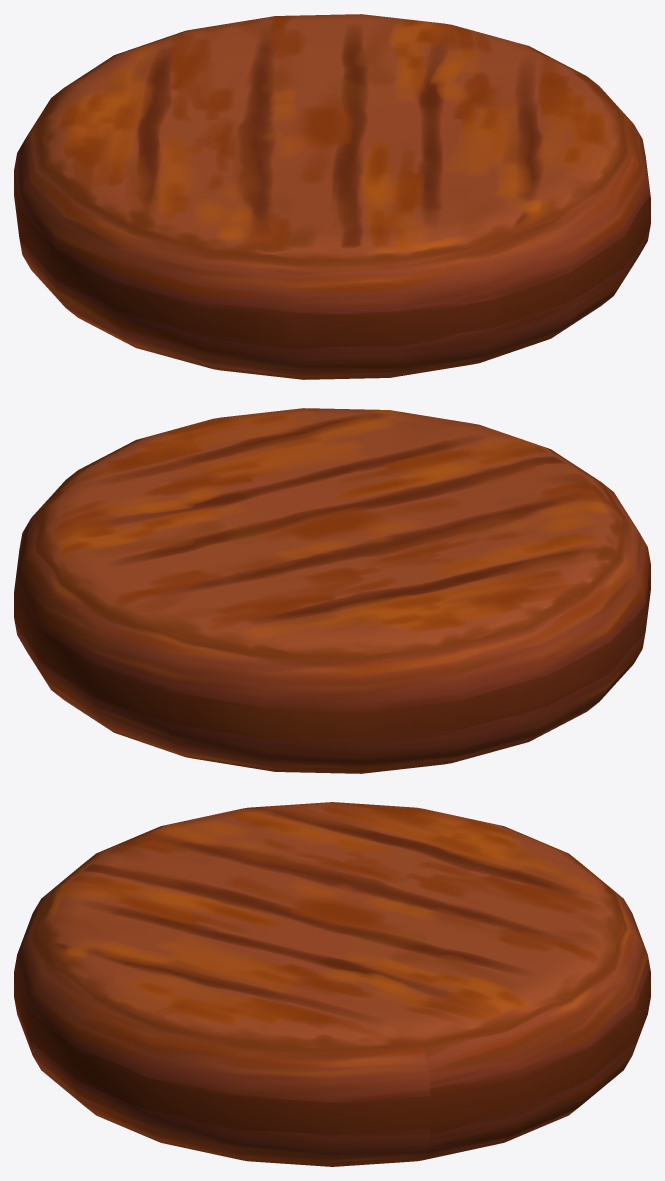
Rendered from MD_Patty.fbx.
3 renders of one model, top to bottom at view 1: azimuth 30°, elevation 25°; view 2: azimuth 150°, elevation 25°; view 3: azimuth 270°, elevation 25°, orthographic.
Parts seen in each view (by area): view 1: Patty; view 2: Patty; view 3: Patty.
Boxes of the visible parts, left/top/right/bottom form: Patty: left=14, top=14, right=650, bottom=379; Patty: left=14, top=408, right=650, bottom=773; Patty: left=14, top=802, right=650, bottom=1166.
Bounding box in the file's own units: 2 × 0.48 × 2.
